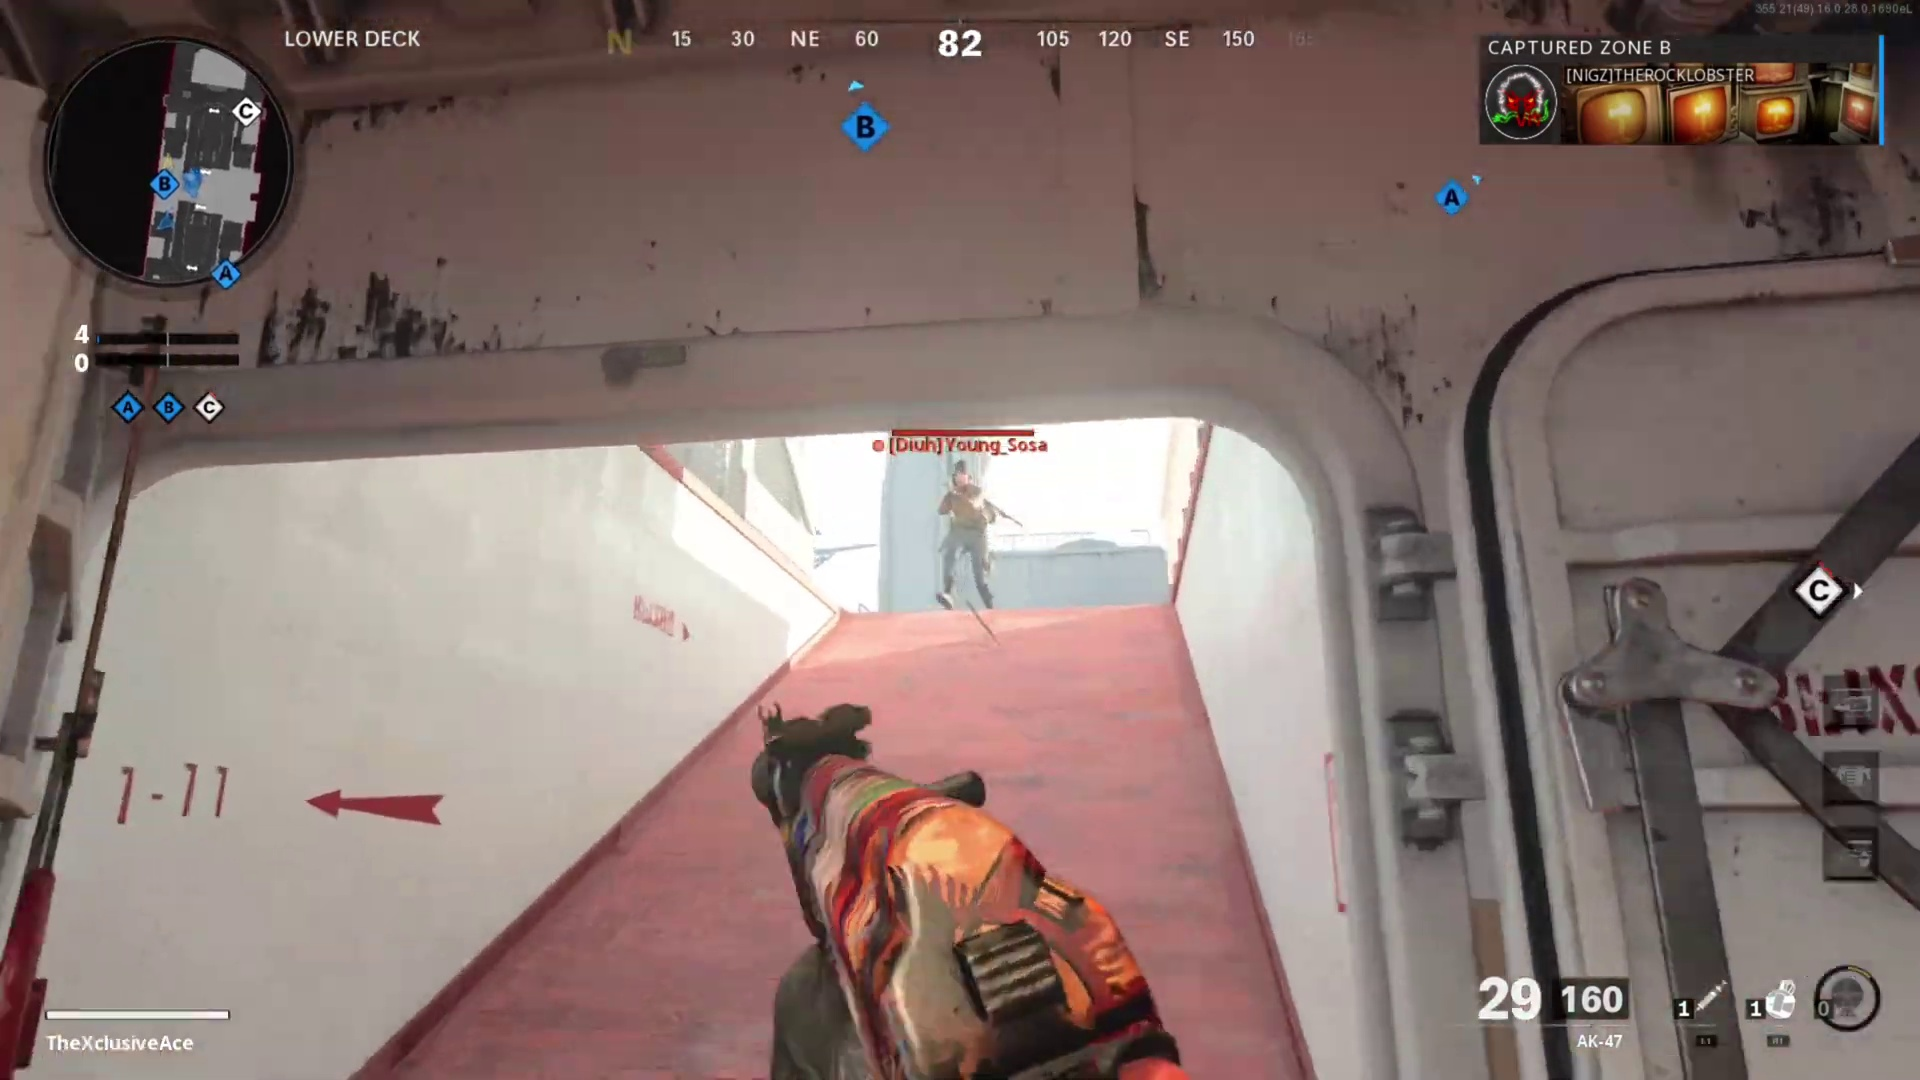head: (948, 461, 975, 499)
person: (931, 458, 1003, 605)
